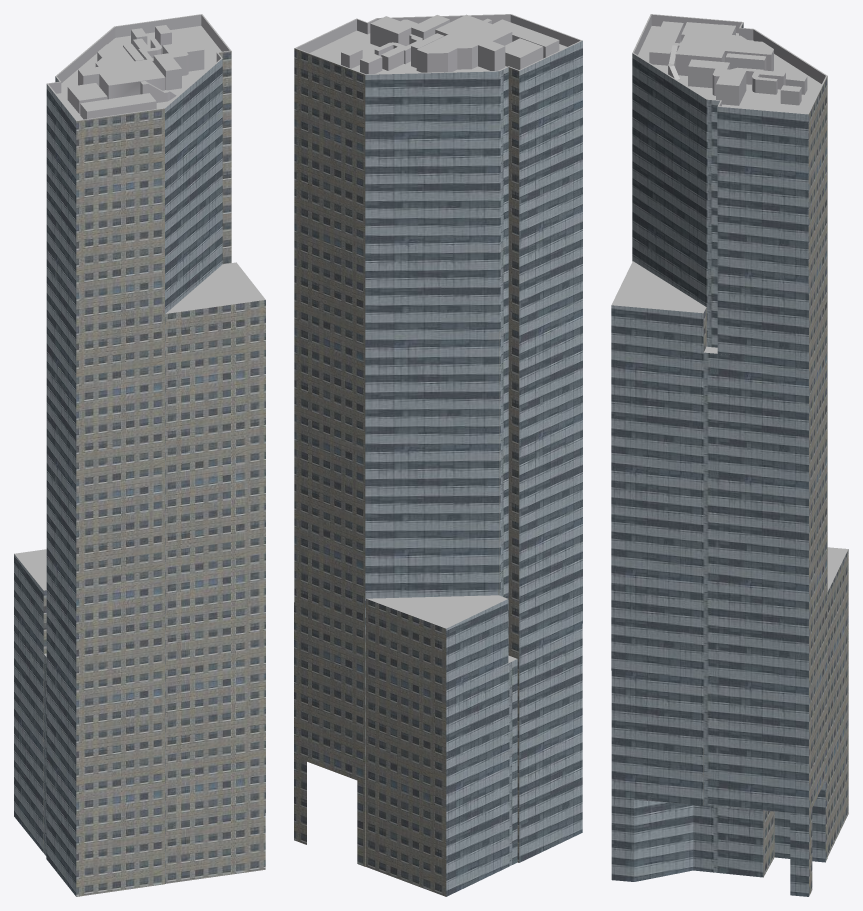
3 renders of one model, left to right at view 1: azimuth 30°, elevation 25°; view 2: azimuth 150°, elevation 25°; view 3: azimuth 270°, elevation 25°, orthographic. The views are drawn at different scales.
Parts seen in each view (by area): view 1: geometry_0; view 2: geometry_0; view 3: geometry_0.
Part boxes in pixels (x1=…): geometry_0: x1=14, y1=14, x2=265, y2=896; geometry_0: x1=294, y1=14, x2=582, y2=896; geometry_0: x1=611, y1=14, x2=848, y2=896.
Size of the model in its own units: 48.69 by 179 by 48.52.
Materials: 1 (1 with a texture image).
